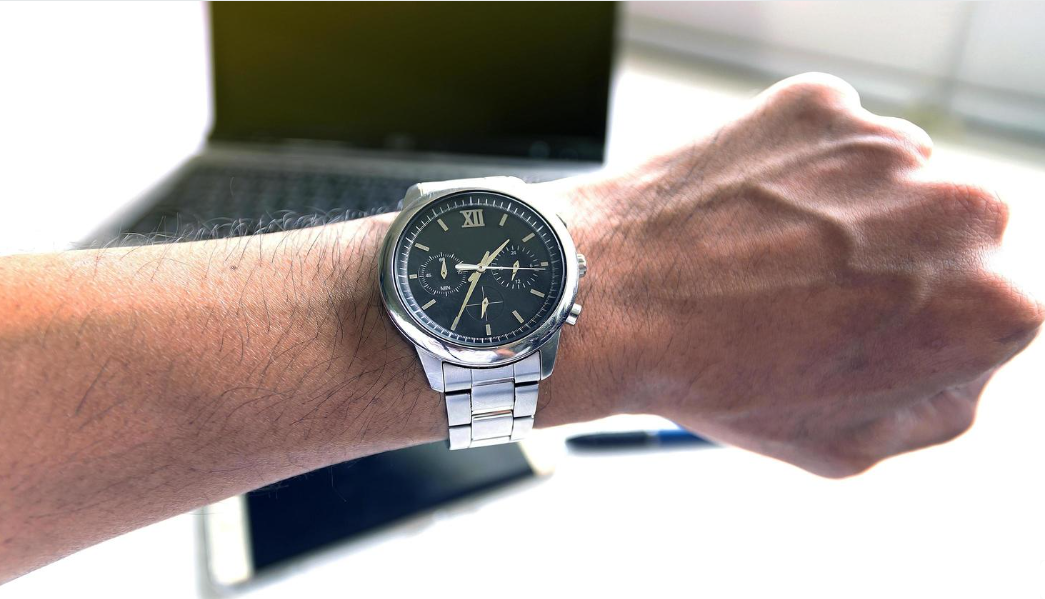Wrist watch: (376, 90, 606, 437)
